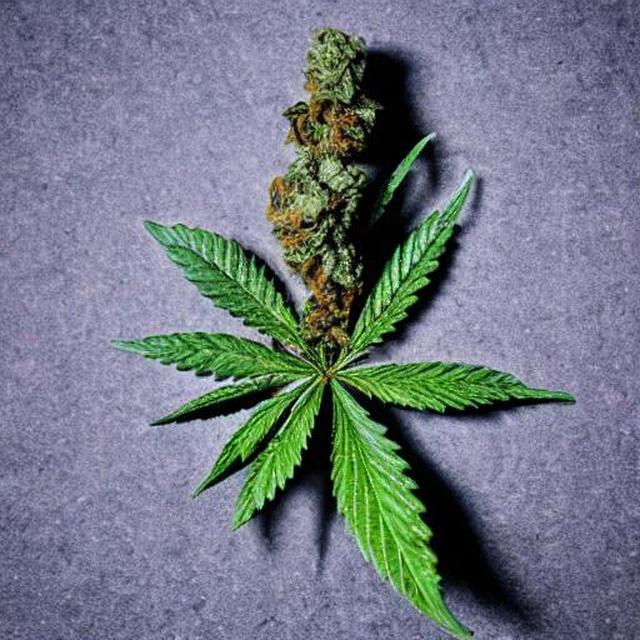Marijuana Plant: (15, 87, 511, 640)
